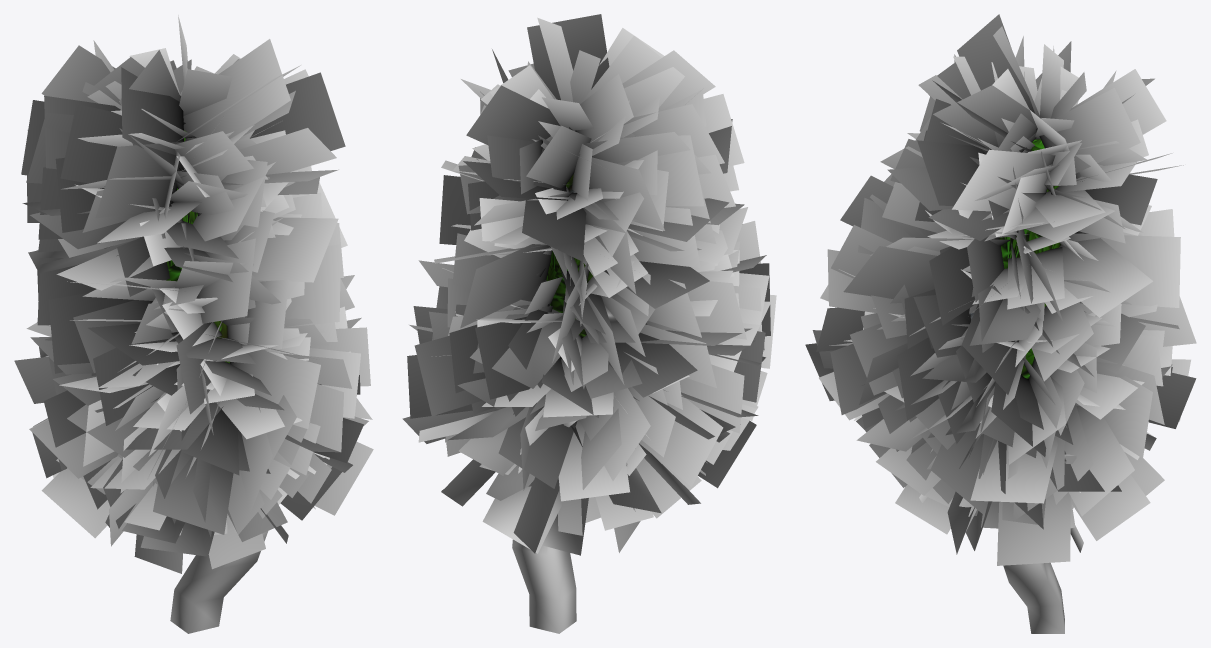
Rendered from Tree2.fbx.
3 renders of one model, left to right at view 1: azimuth 30°, elevation 25°; view 2: azimuth 150°, elevation 25°; view 3: azimuth 270°, elevation 25°, orthographic. The views are drawn at different scales.
Parts seen in each view (by area): view 1: Grass2.100, Branches, GrassBlob; view 2: Grass2.100, Branches, GrassBlob; view 3: Grass2.100, Branches, GrassBlob.
Boxes of the visible parts, x1,y1,x2,y2 form: Grass2.100: [14, 15, 373, 573]; Branches: [170, 531, 268, 633]; GrassBlob: [166, 130, 229, 363]; Grass2.100: [402, 14, 776, 555]; Branches: [512, 420, 627, 633]; GrassBlob: [546, 174, 592, 338]; Grass2.100: [805, 14, 1196, 565]; Branches: [1003, 454, 1076, 633]; GrassBlob: [970, 139, 1060, 379].
Bounding box in the file's own units: 3.81 × 6.71 × 4.16.
